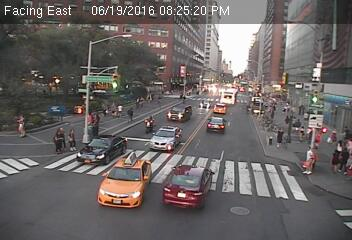neg: (215, 121, 239, 153), (37, 31, 59, 61), (172, 125, 193, 153), (300, 47, 321, 75), (215, 39, 233, 63), (140, 111, 158, 134), (96, 29, 113, 51), (135, 36, 151, 57), (189, 37, 203, 55), (252, 105, 265, 122), (264, 68, 275, 83)
pos: (325, 139, 350, 172), (10, 112, 32, 141), (298, 144, 320, 173), (44, 124, 65, 151), (64, 127, 83, 152), (106, 97, 122, 118), (272, 125, 288, 146), (115, 102, 128, 119), (133, 94, 144, 110), (126, 107, 137, 122)
